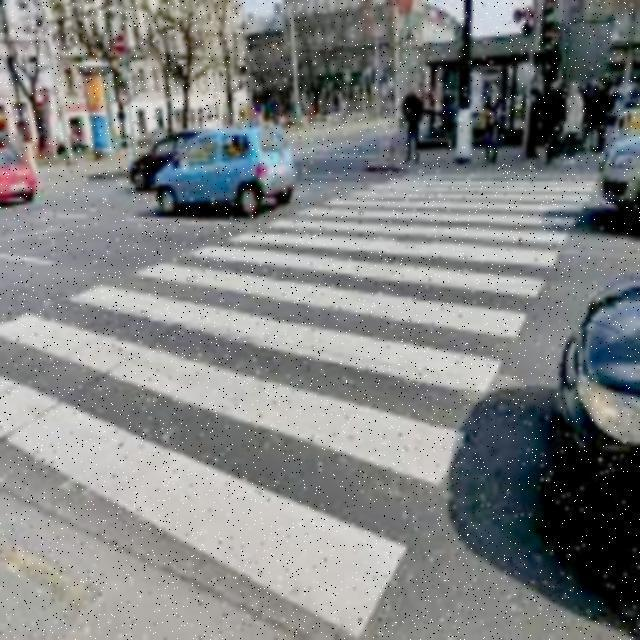Pedestrian crosswalk: (4, 158, 608, 636)
